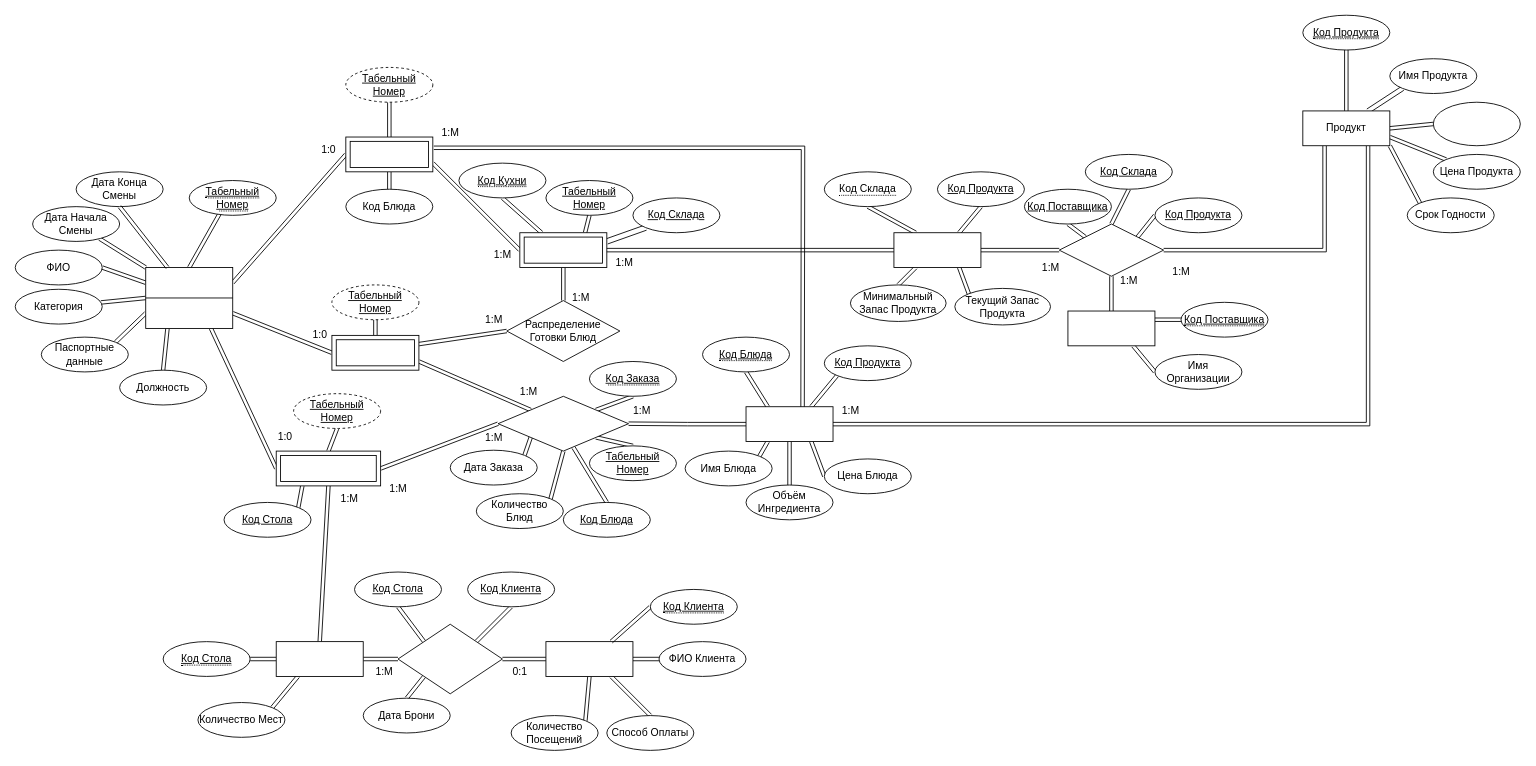
Image size: 1536x766. Some labels were removed from this diagram. Each missing label, with the centre of its shape:
"Блюдо" goes at (x=789, y=424).
"Бронирование Стола" goes at (x=449, y=658).
"Закупка Товара" goes at (x=1111, y=249).
"Калорийность" goes at (x=1476, y=123).
"Клиент" goes at (x=589, y=658).
"Кухня" goes at (x=563, y=250).
"Оформление Заказа" goes at (x=563, y=423).
"Оффициант" goes at (x=328, y=468).
"Повар" goes at (x=389, y=154).
"Поставщик" goes at (x=1111, y=328).
"Склад" goes at (x=937, y=250).
"Сотрудник" goes at (x=189, y=297).
"Стол" goes at (x=319, y=658).
"Шеф-Повар" goes at (x=375, y=352).
